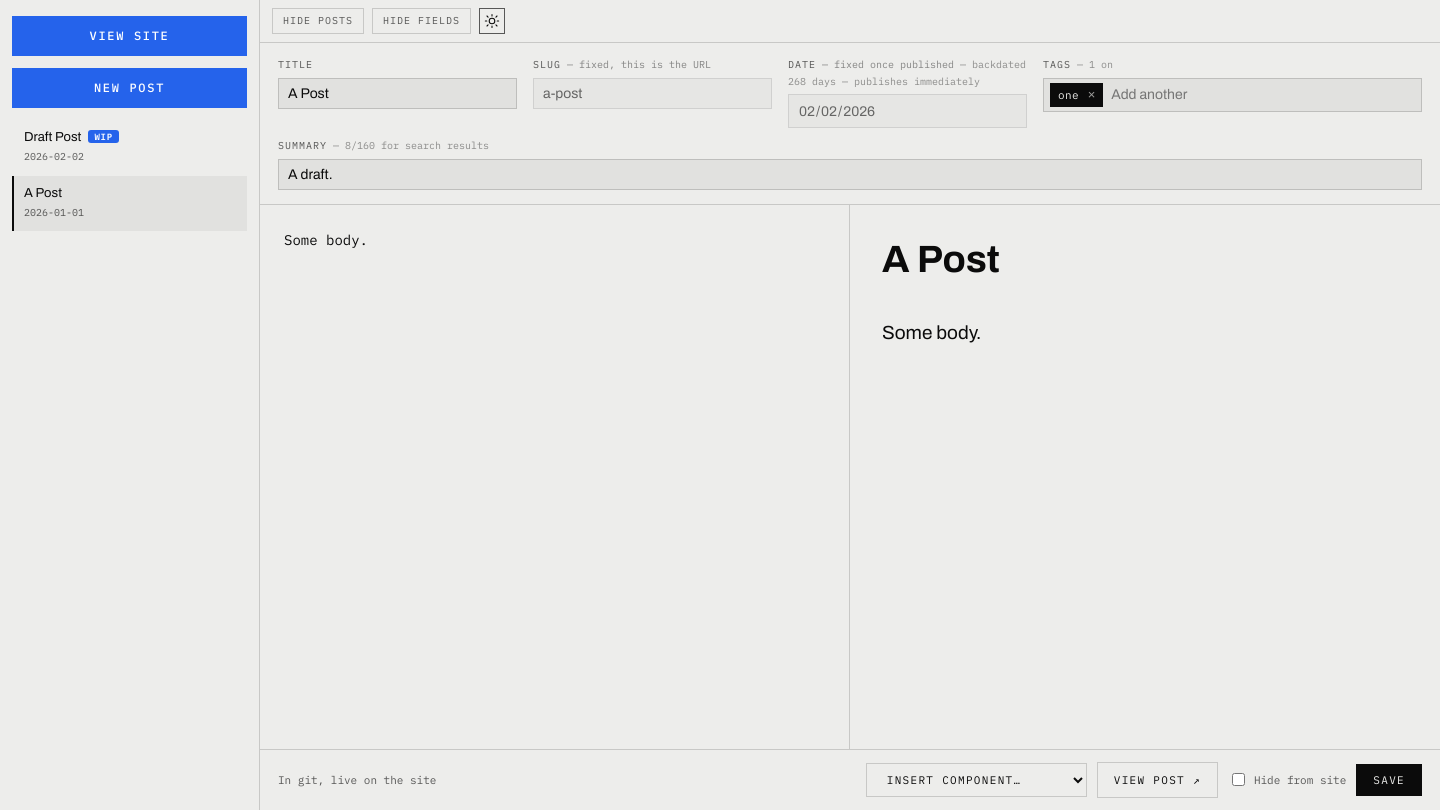
it: a published post › cannot be saved empty
Clear the text box with test id "body" at (555, 477), box [260,204,850,749]
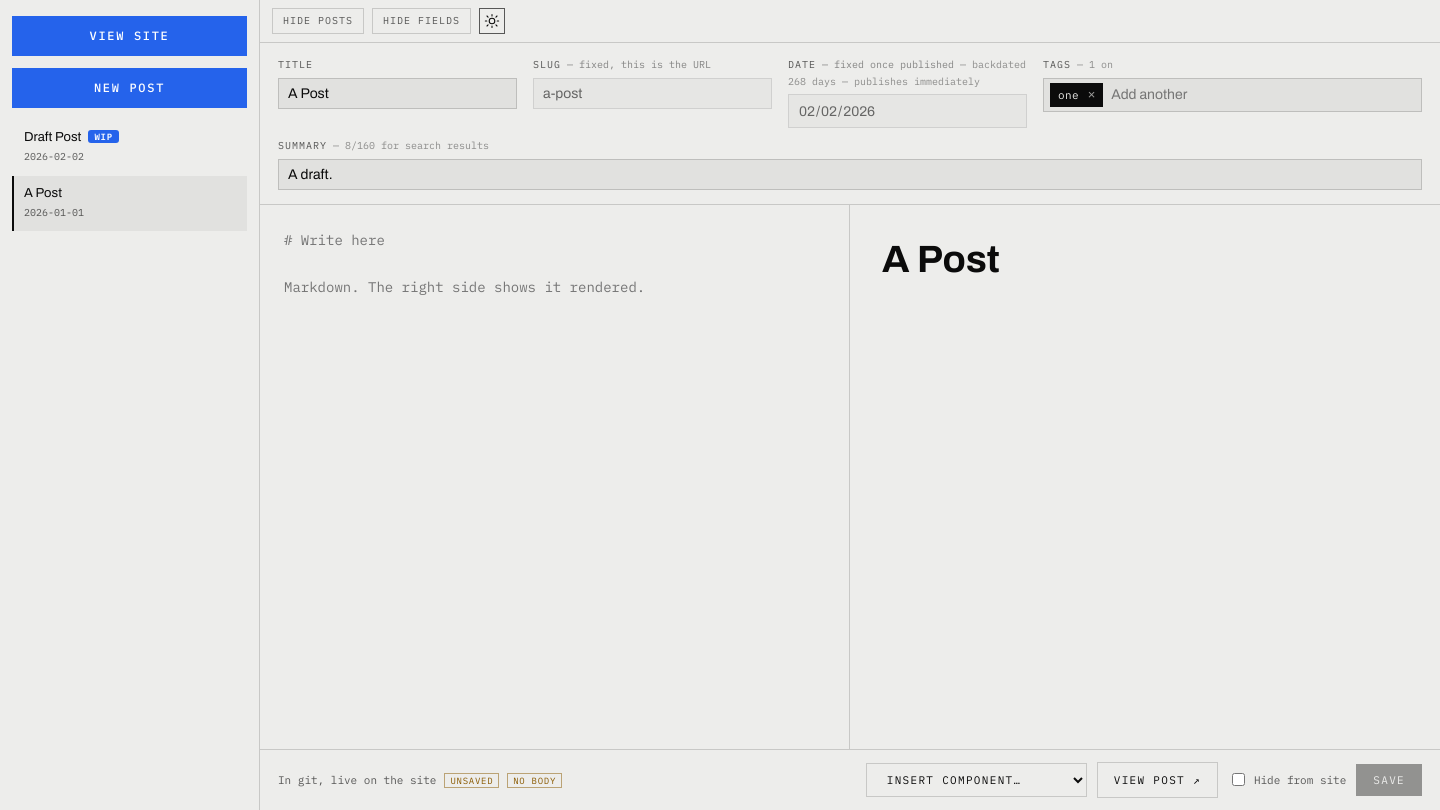
Now the button "Save" is disabled, box [1356,764,1422,796]
